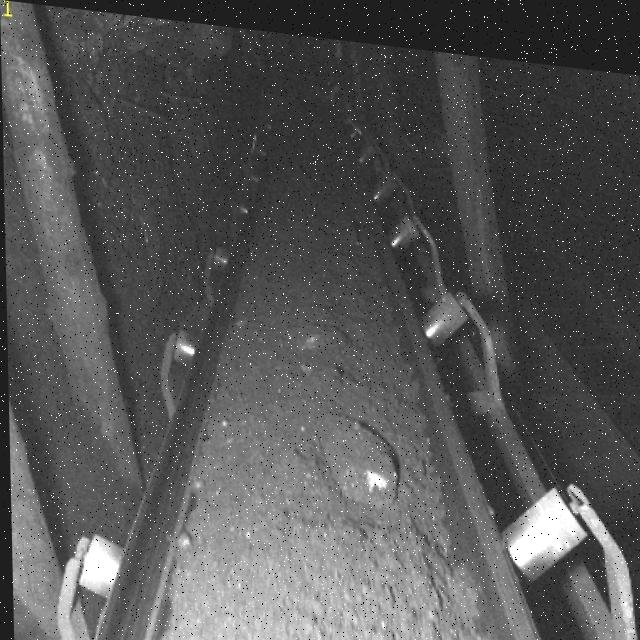large_sized_coal: (324, 401, 401, 493)
